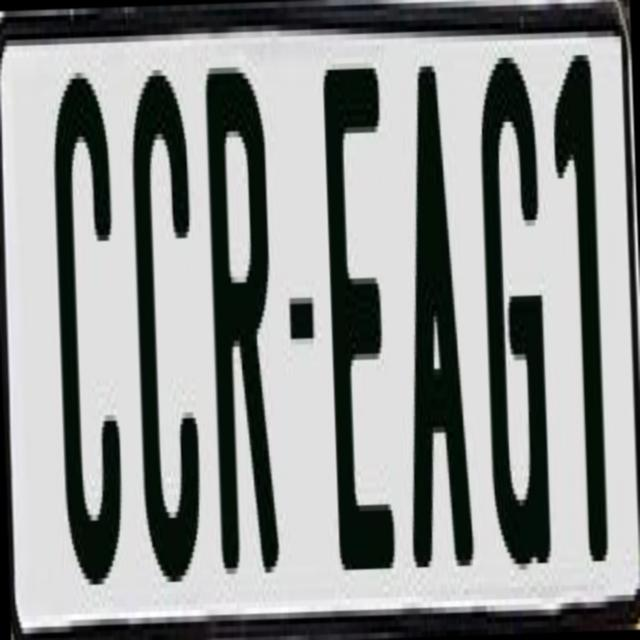1: (549, 43, 609, 585)
A: (393, 65, 474, 590)
C: (129, 69, 206, 594), (51, 65, 128, 579)
E: (318, 56, 399, 587)
G: (472, 39, 555, 588)
R: (200, 49, 282, 556)
